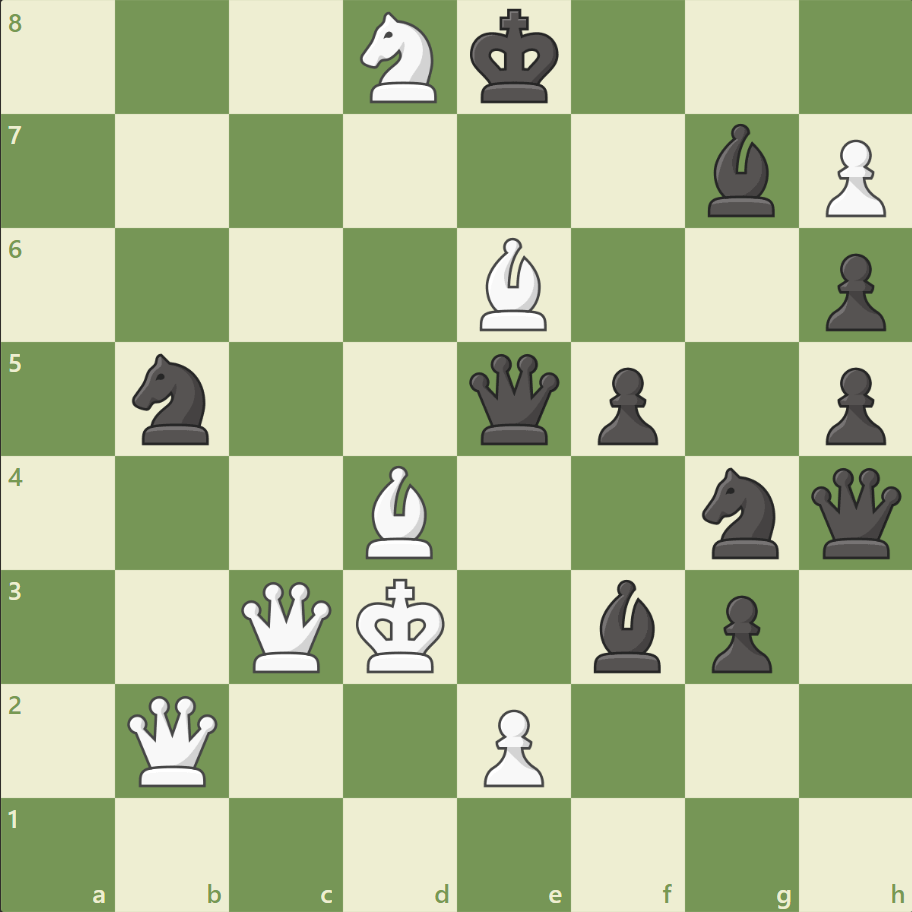B: (471, 233, 555, 336), (358, 460, 442, 563)
K: (351, 571, 451, 679)
N: (351, 7, 449, 110)
P: (474, 700, 549, 791), (815, 132, 889, 223)
Q: (237, 576, 336, 676), (124, 690, 223, 789)
b: (698, 120, 782, 222), (585, 574, 669, 676)
k: (465, 4, 565, 112)
n: (124, 348, 222, 450), (692, 461, 789, 564)
p: (701, 586, 776, 677), (815, 246, 889, 337), (588, 359, 662, 450), (815, 359, 889, 450)
q: (464, 349, 563, 449), (805, 463, 904, 562)
